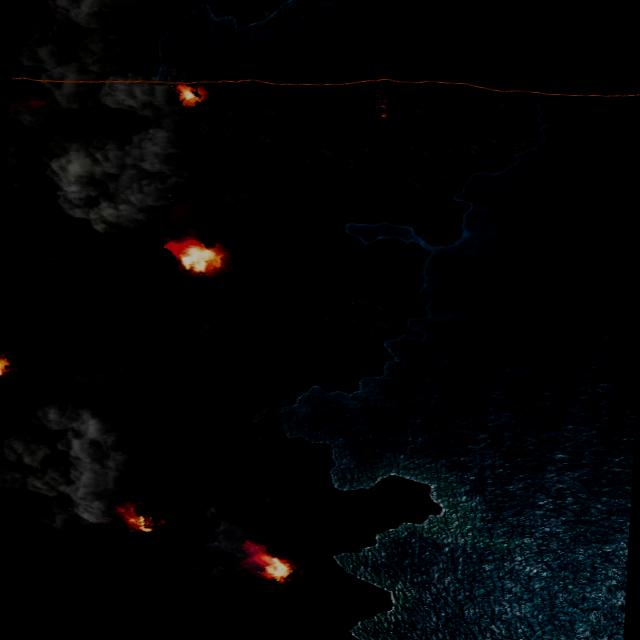fire: (169, 240, 223, 277), (112, 500, 160, 532), (252, 548, 296, 582), (172, 82, 203, 105), (0, 352, 14, 376)
smoke: (6, 77, 192, 246), (0, 391, 135, 536), (14, 0, 169, 86), (184, 485, 285, 582)
